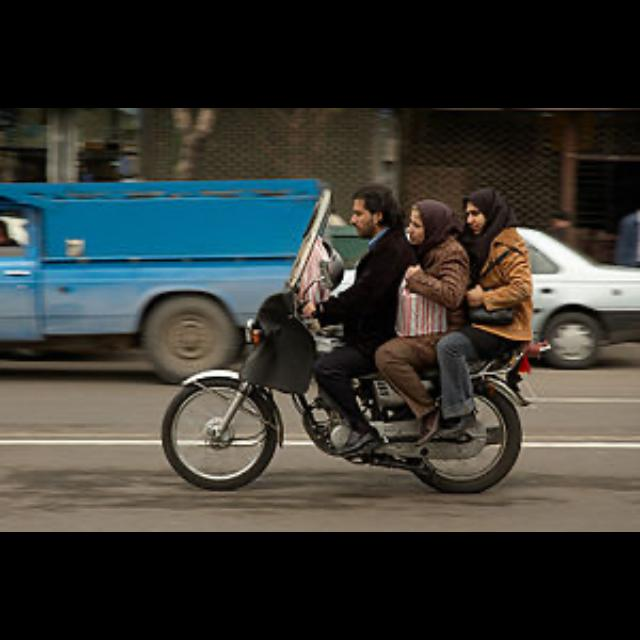Without Helmet: (348, 180, 397, 238), (406, 194, 456, 246)
